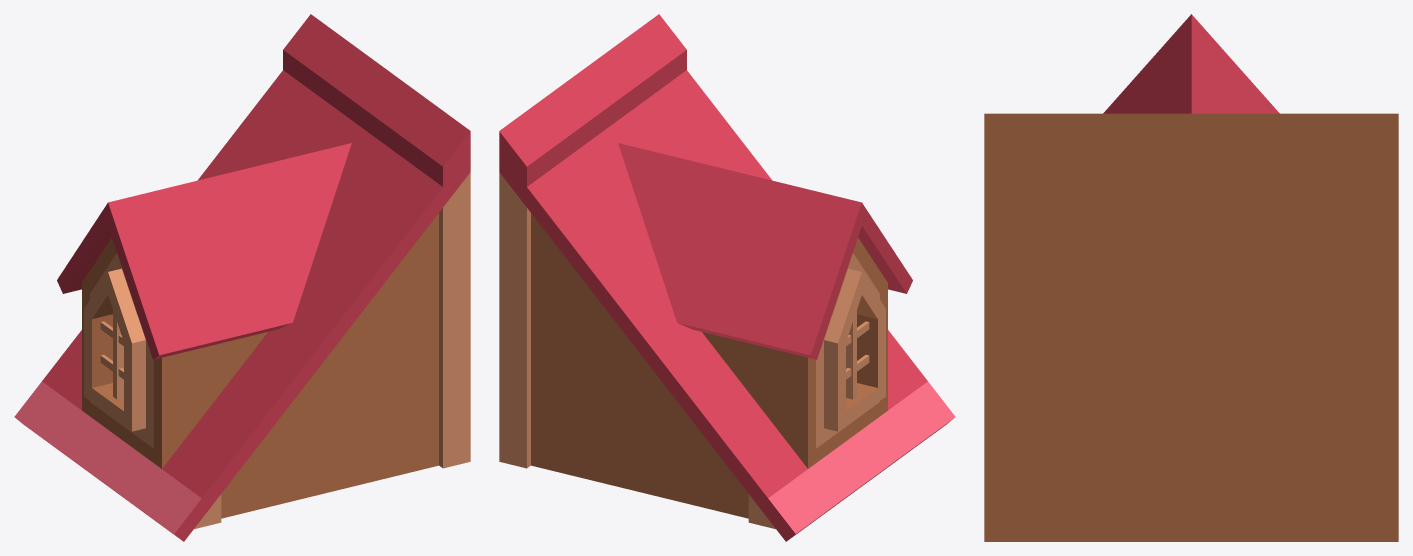
The model's file is roofHighWindow.obj.
3 renders of one model, left to right at view 1: azimuth 30°, elevation 25°; view 2: azimuth 150°, elevation 25°; view 3: azimuth 270°, elevation 25°, orthographic. The views are drawn at different scales.
Parts seen in each view (by area): view 1: roofHighWindow; view 2: roofHighWindow; view 3: roofHighWindow.
Part boxes in pixels (left/top/right/bottom): roofHighWindow: left=14, top=14, right=470, bottom=541; roofHighWindow: left=499, top=14, right=955, bottom=541; roofHighWindow: left=984, top=14, right=1398, bottom=541.
Size of the model in its own units: 1.07 by 1.18 by 1.
